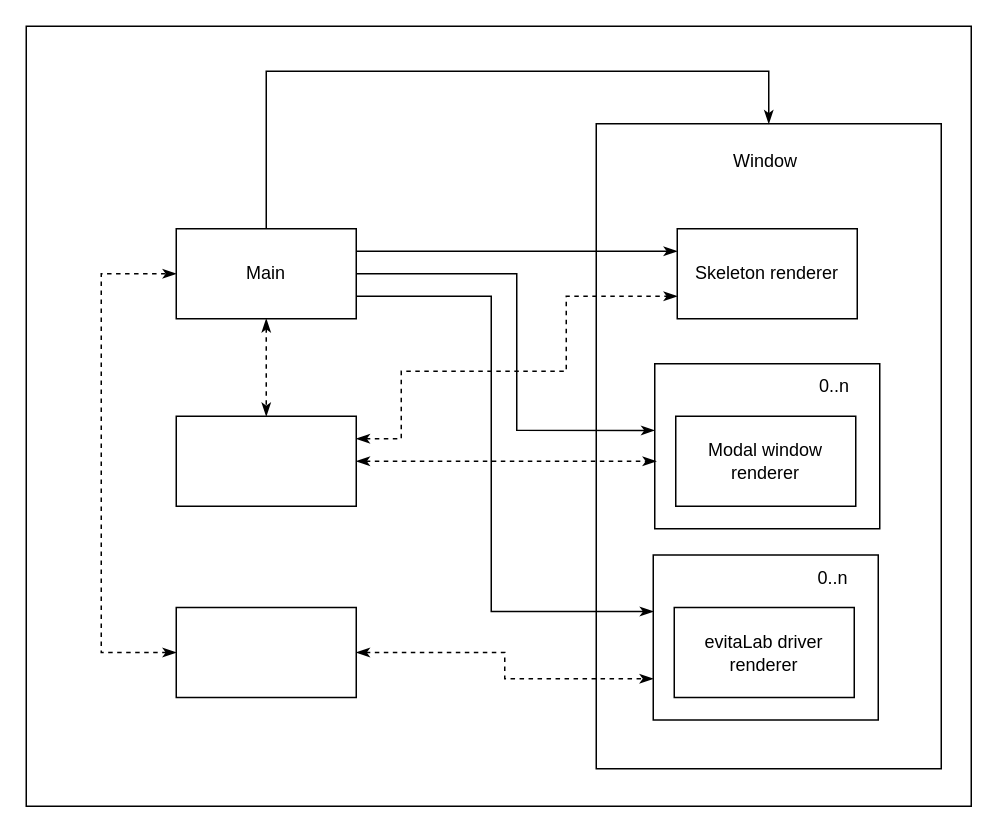
This 998x833 diagram has some shape labels left out. The shapes that lost their labels are listed below. From the top down, each one's box as (x1, y1, x2, y2) in pixels, then its label:
(175, 415, 356, 506): Skeleton/Modal preload
(175, 606, 356, 698): evitaLab driver preload
